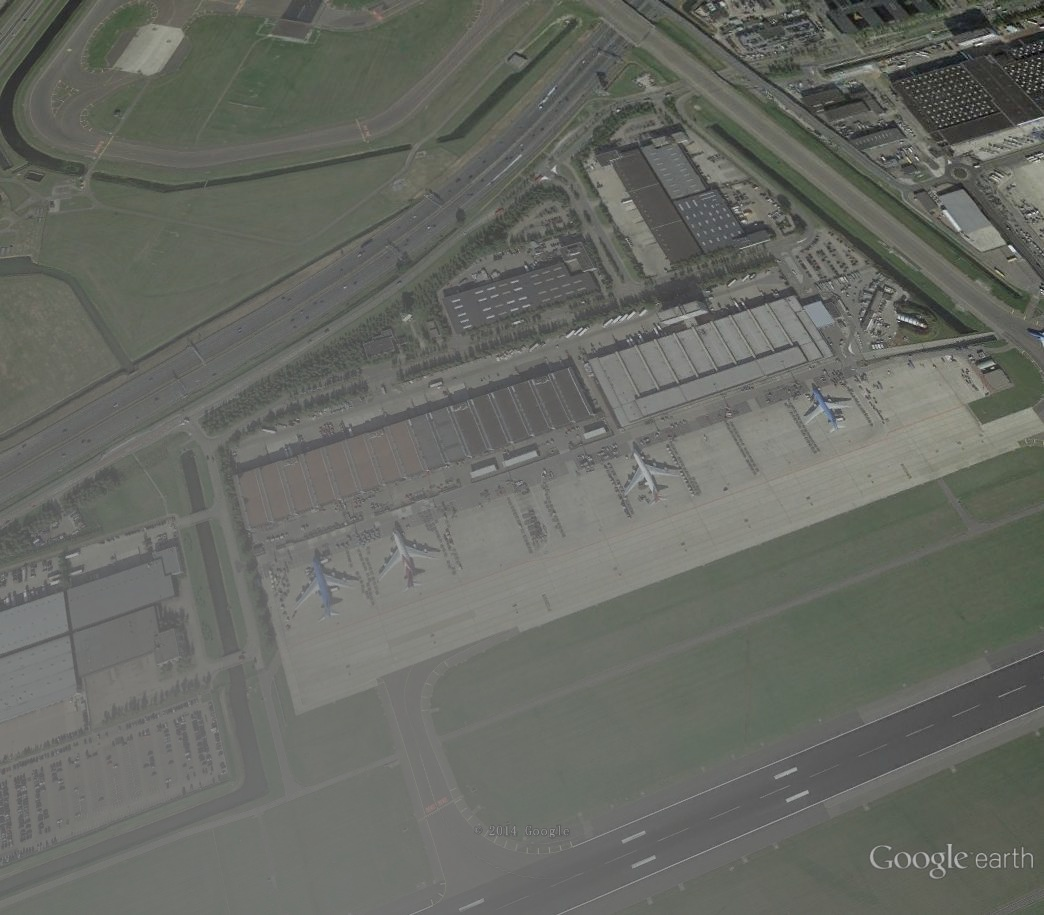aircraft: (292, 556, 359, 625), (375, 532, 444, 597), (620, 451, 686, 509), (799, 386, 856, 436)
